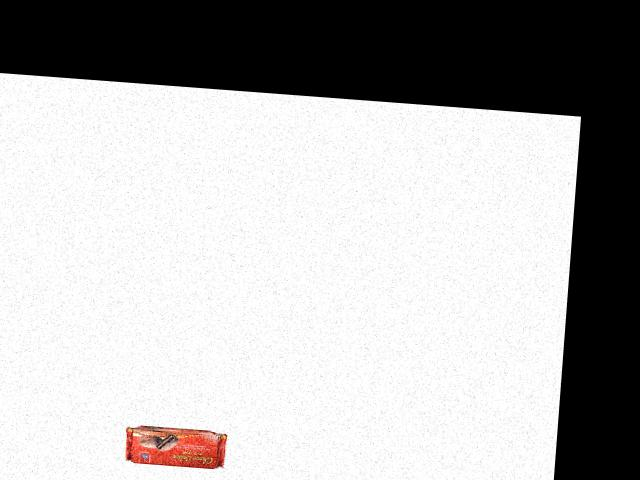chocolate: (122, 415, 229, 470)
